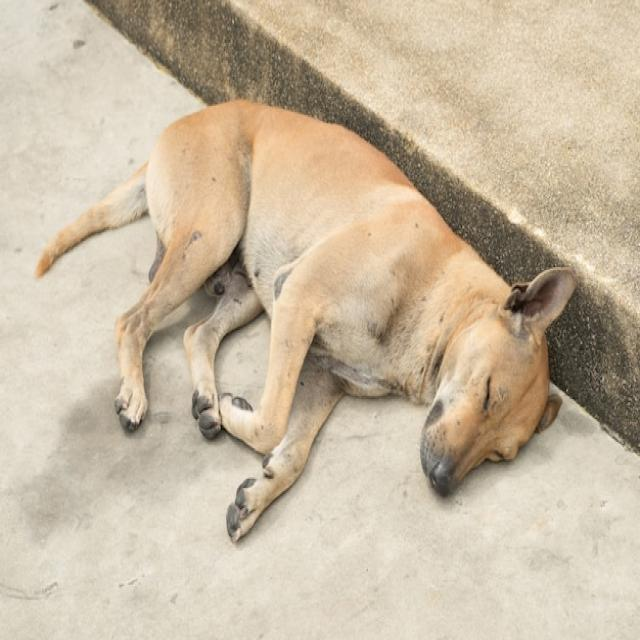laying down: (24, 90, 578, 550)
